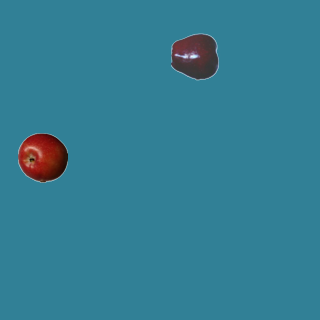Apple Braeburn: (17, 132, 67, 182)
Apple Red Delicious: (170, 31, 220, 81)
